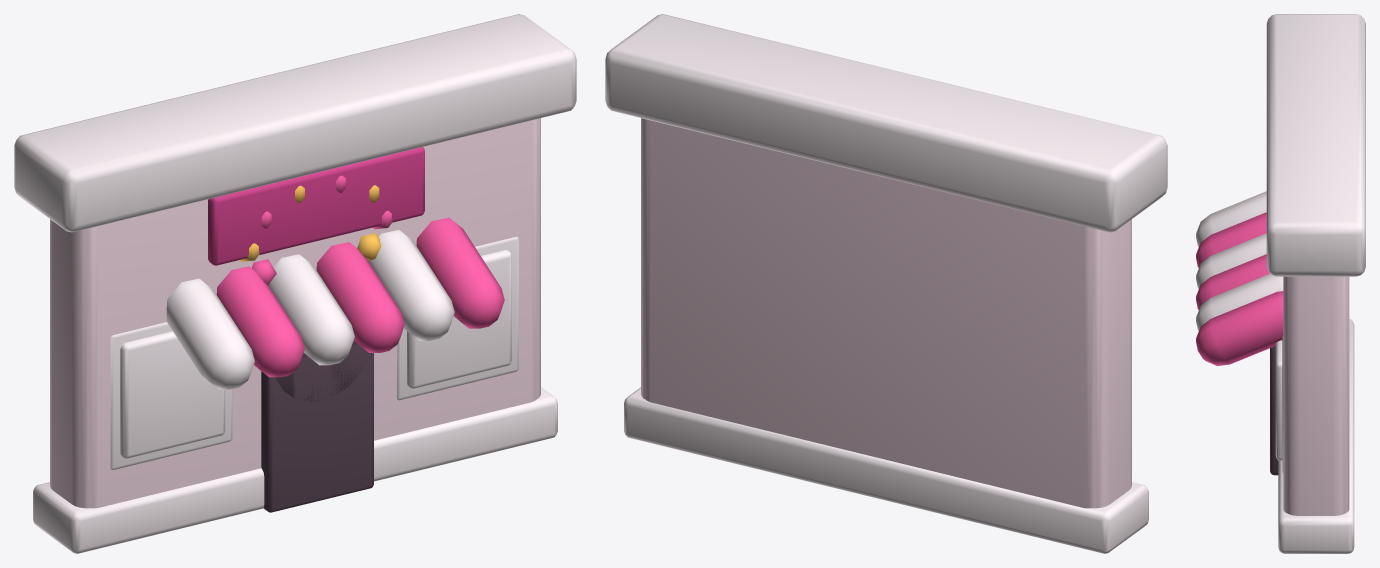
Rendered from facade_sweets.obj.
3 views of the same model, side by side, from view 1: azimuth 30°, elevation 25°; view 2: azimuth 150°, elevation 25°; view 3: azimuth 270°, elevation 25° (orthographic). The views are drawn at different scales.
Parts seen in each view (by area): view 1: Roof, Wall, Trim, AwningA, AwningB, Windows, Door, Sign, Frames, TopperB, Topper; view 2: Wall, Roof, Trim; view 3: Roof, Wall, AwningB, AwningA, Trim, Windows, Door, Frames.
Boxes of the visible parts, x1,y1,x2,y2 form: Roof: (14,14,576,232); Wall: (50,118,540,508); Trim: (33,387,557,553); AwningA: (166,230,454,389); AwningB: (216,217,504,377); Windows: (120,250,511,458); Door: (261,341,373,512); Sign: (208,147,424,265); Frames: (110,237,518,469); TopperB: (240,185,381,261); Topper: (252,175,392,285); Wall: (641,118,1131,508); Roof: (605,14,1167,232); Trim: (624,387,1148,553); Roof: (1266,14,1365,276); Wall: (1283,276,1349,515); AwningB: (1196,212,1283,365); AwningA: (1196,191,1283,330); Trim: (1278,319,1354,553); Windows: (1275,340,1282,460); Door: (1270,346,1278,475); Frames: (1282,335,1283,473).
Bounding box in the file's own units: 15.4 × 11.2 × 5.14.
